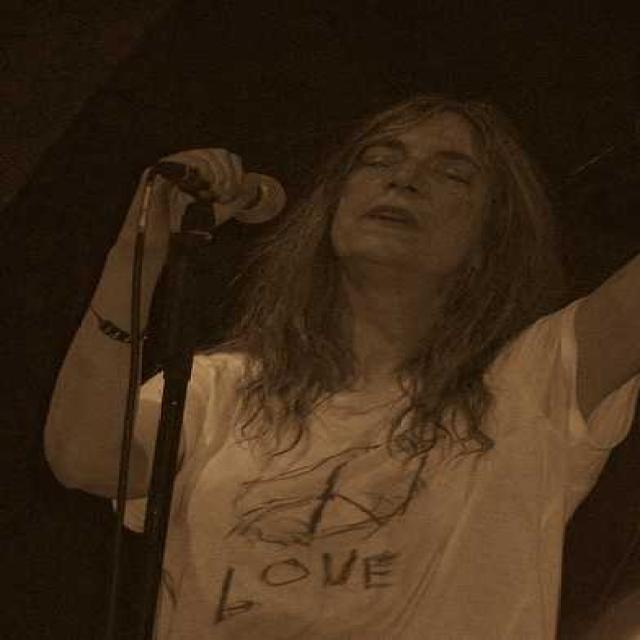microphone: (150, 160, 293, 220)
